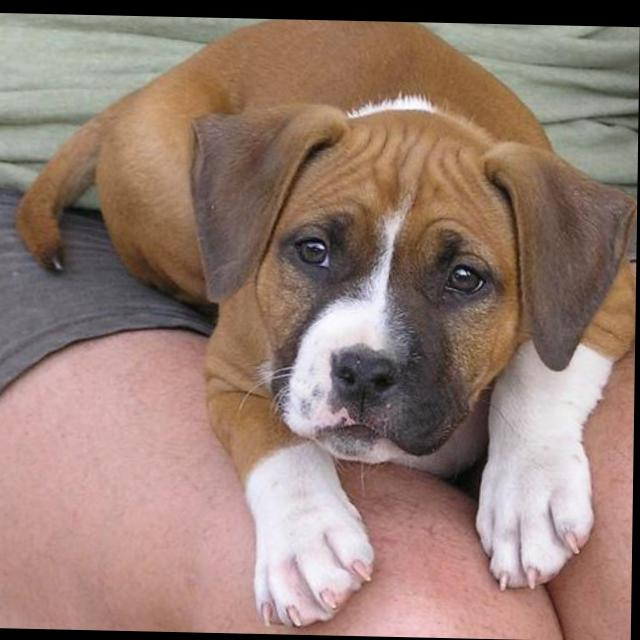amstaff: (10, 13, 640, 632)
